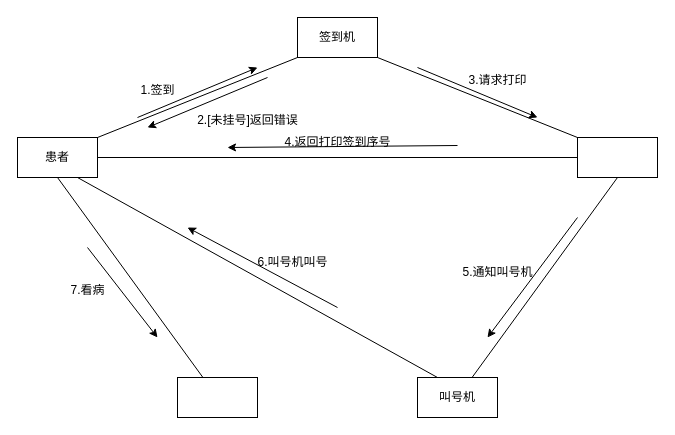
Image size: 675x435. Some labels were removed from this diagram. The box of each missing label's shape, as (x1, y1, x2, y2) in pixels:
医生: (176, 376, 258, 418)
票据打印机: (576, 136, 658, 178)
